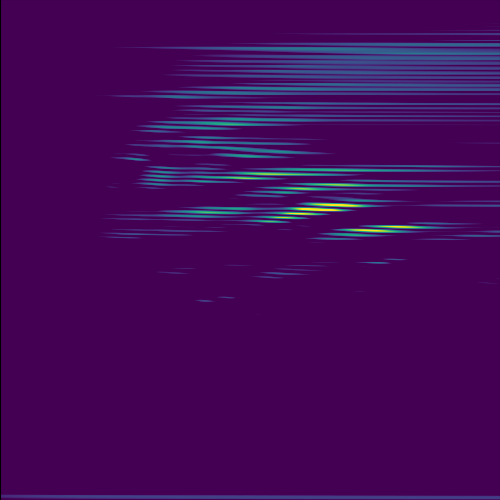semblance: (253, 196, 373, 229), (317, 219, 438, 245), (223, 165, 350, 185)
